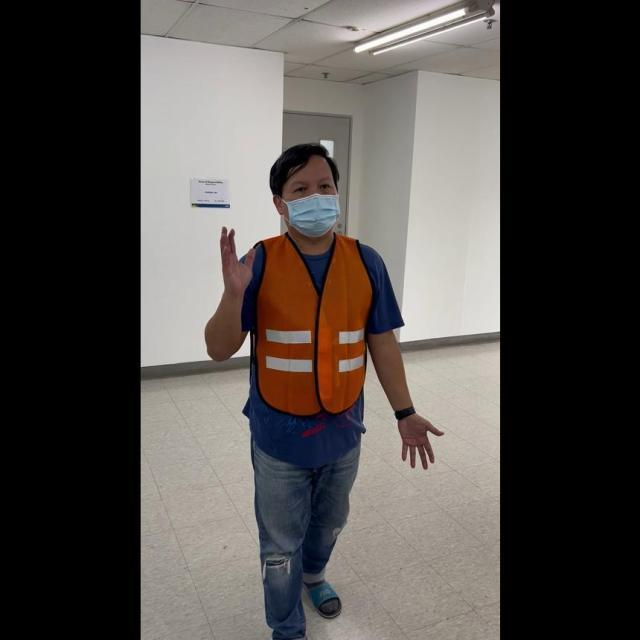bare_hand: (391, 409, 443, 469), (216, 220, 252, 294)
